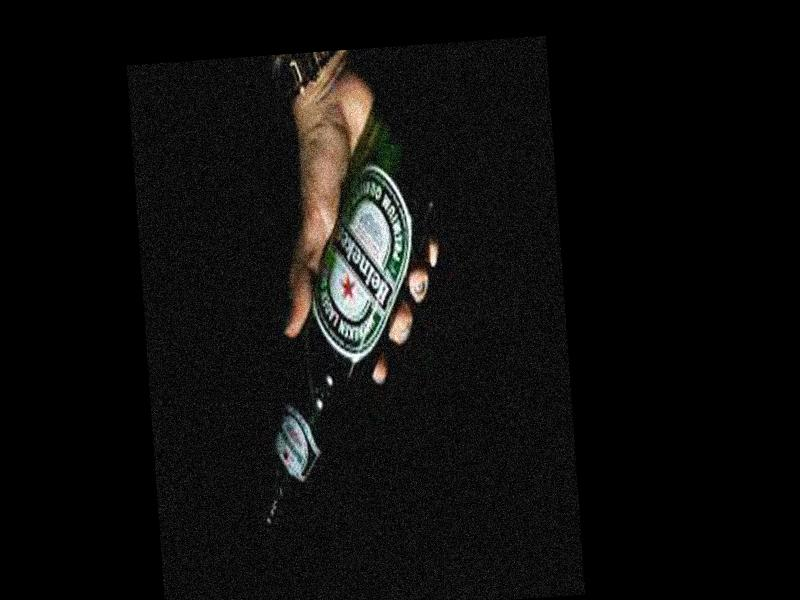Beer: (228, 95, 464, 541)
